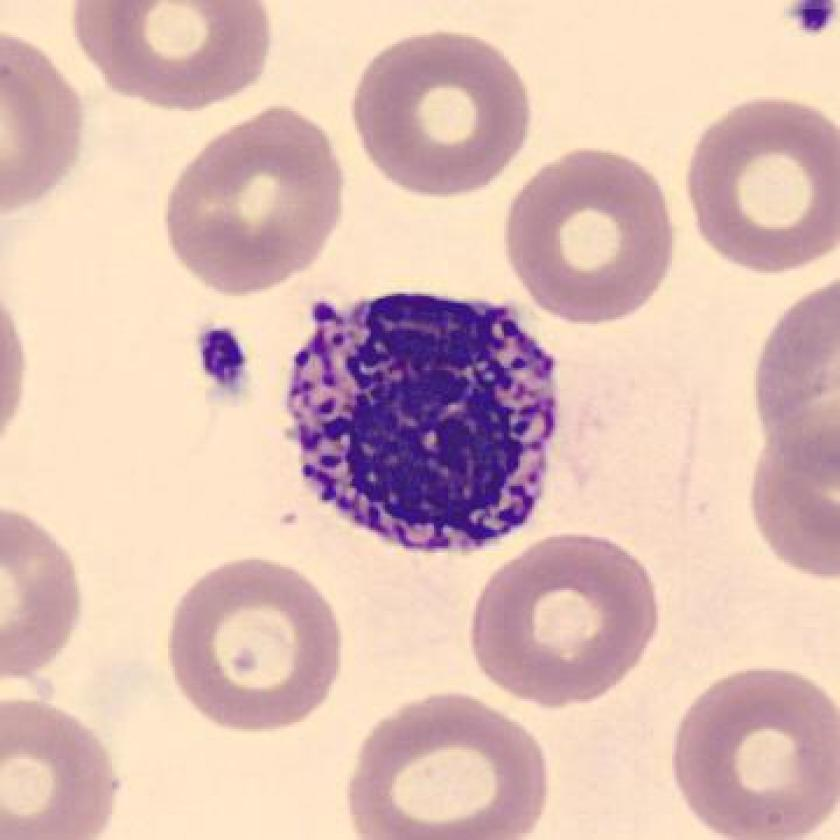basophil: (284, 276, 564, 568)
